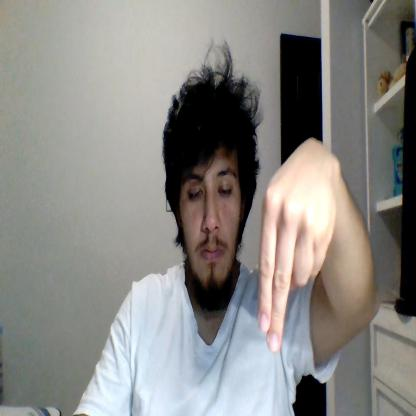N: (259, 138, 336, 352)
